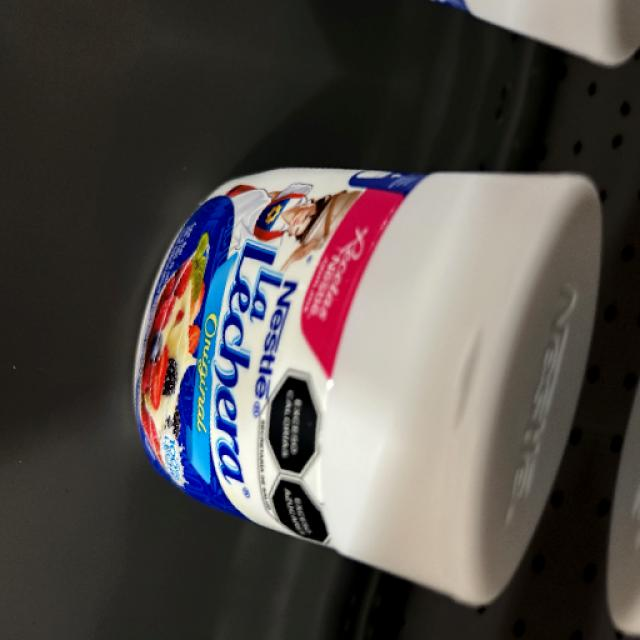nestleLechera: (143, 169, 578, 552)
